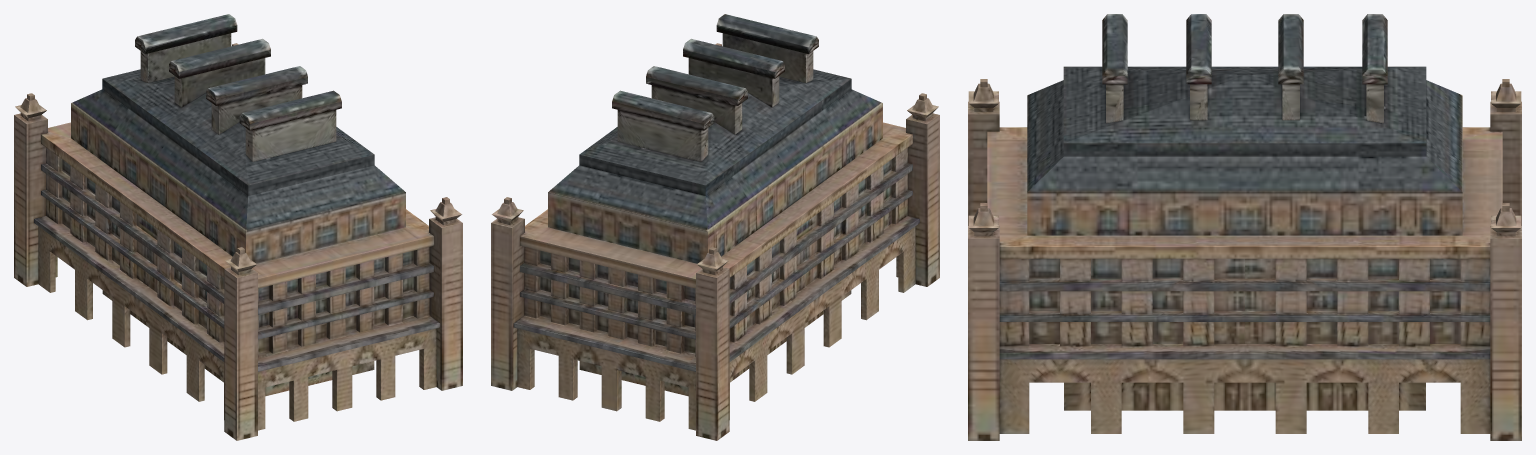
File: london_victorian_hall.gltf
3 renders of one model, left to right at view 1: azimuth 30°, elevation 25°; view 2: azimuth 150°, elevation 25°; view 3: azimuth 270°, elevation 25°, orthographic. The views are drawn at different scales.
Visible parts, largest first — view 1: Object_28; view 2: Object_28; view 3: Object_28.
Boxes of the visible parts, x1,y1,x2,y2 form: Object_28: [14, 14, 462, 440]; Object_28: [491, 14, 939, 440]; Object_28: [968, 14, 1521, 440].
Bounding box in the file's own units: 19.56 × 22 × 33.41.
Materials: 1 (1 with a texture image).
